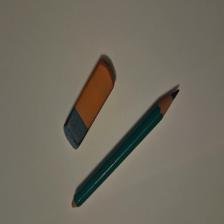eraser: (64, 61, 116, 151)
pencil: (73, 90, 181, 209)
